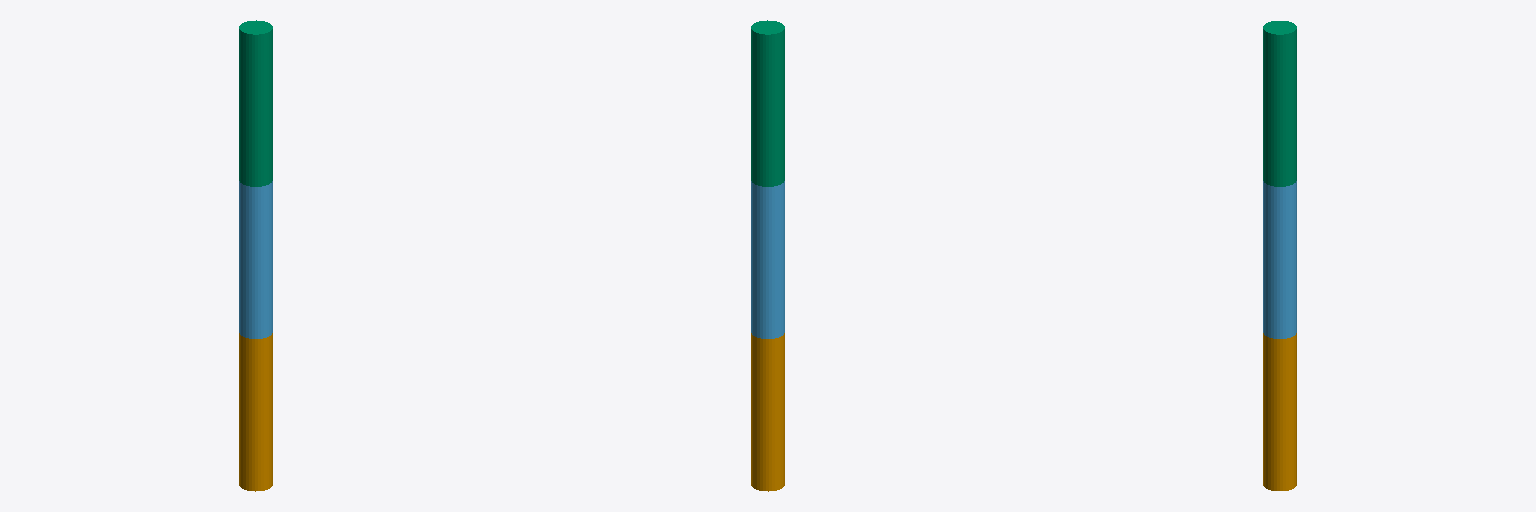
robot.urdf — tom:
<?xml version="1.0" ?>
<robot name="tom">
  <link name="link1">
    <visual>
      <origin xyz="0 0 0.1"/>
      <geometry>
        <cylinder length="0.2" radius="0.02"/>
      </geometry>
    </visual>
  </link>

  <link name="link2">
    <visual>
      <origin xyz="0 0 0.1"/>
      <geometry>
        <cylinder length="0.2" radius="0.02"/>
      </geometry>
    </visual>
  </link>

  <link name="link3">
    <visual>
      <origin xyz="0 0 0.1"/>
      <geometry>
        <cylinder length="0.2" radius="0.02"/>
      </geometry>
    </visual>
  </link>

  <joint name="joint1" type="revolute">
    <origin rpy="0 0 0" xyz="0 0 0.20"/>
    <axis xyz="0 1 0"/>
    <limit effort="204" lower="-2.96705972839" upper="2.96705972839" velocity="3.14159265359"/>
    <parent link="link1"/>
    <child link="link2"/>
  </joint>

  <joint name="joint2" type="revolute">
    <origin rpy="0 0 0" xyz="0 0 0.20"/>
    <axis xyz="0 1 0"/>
    <limit effort="204" lower="-2.96705972839" upper="2.96705972839" velocity="3.14159265359"/>
    <parent link="link2"/>
    <child link="link3"/>
  </joint>
</robot>

--- What the picture shows (computed from the rendered views, not written in the file) ---
The picture shows the robot from 3 angles, left to right: view 1: azimuth 30°, elevation 25°; view 2: azimuth 150°, elevation 25°; view 3: azimuth 270°, elevation 25°; orthographic projection.
Robot: tom — 3 links, 2 joints (2 revolute); root link link1; default pose: all joints at 0.
Links seen in each view (by area): view 1: link3, link1, link2; view 2: link3, link1, link2; view 3: link3, link1, link2.
Link boxes in pixels (<box>): link3: <box>239,20,272,186</box>; link1: <box>239,333,272,491</box>; link2: <box>239,181,272,338</box>; link3: <box>751,20,784,186</box>; link1: <box>751,333,784,491</box>; link2: <box>751,181,784,338</box>; link3: <box>1263,21,1296,186</box>; link1: <box>1263,333,1296,490</box>; link2: <box>1263,181,1296,338</box>.
Bounding box of the posed robot: 0.04 × 0.04 × 0.6 m (x, y, z).
Geometry: primitives only (box / cylinder / sphere), no mesh files.
